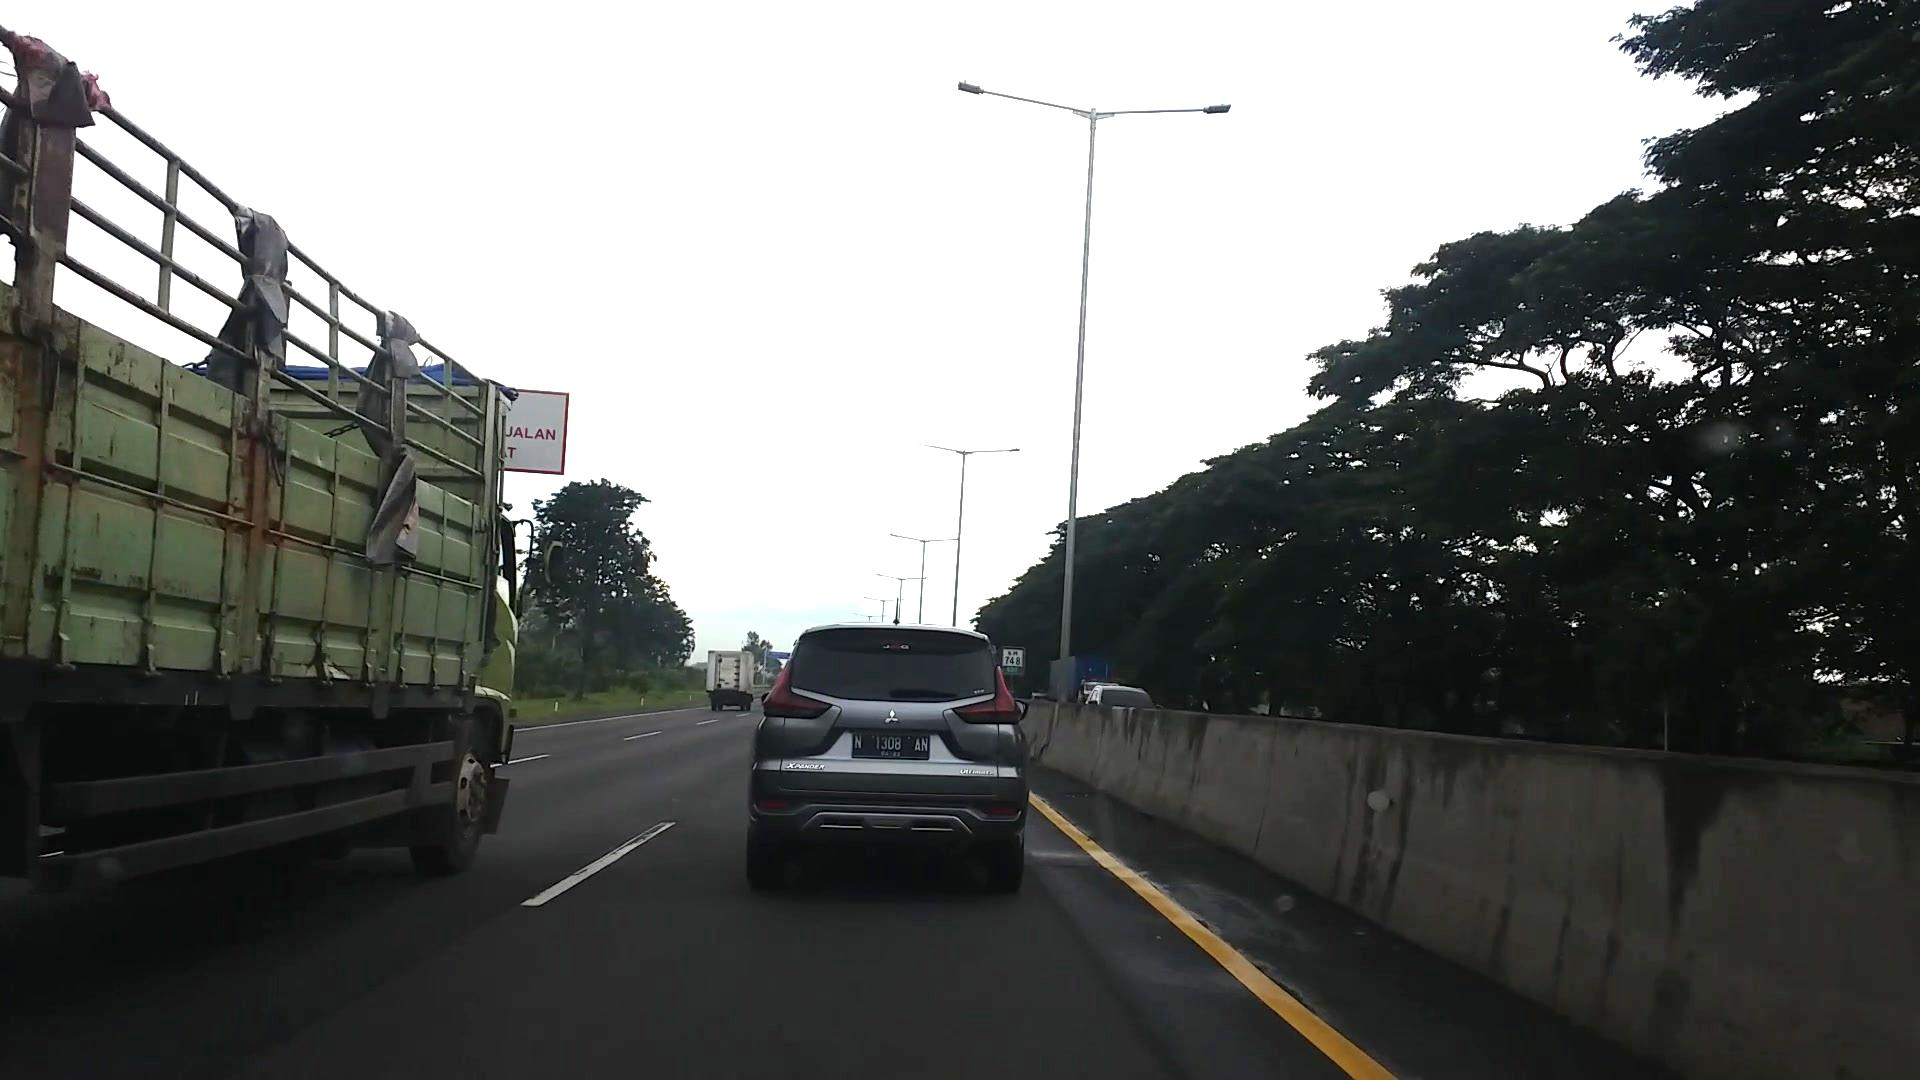plate_positive: (852, 731, 931, 760)
